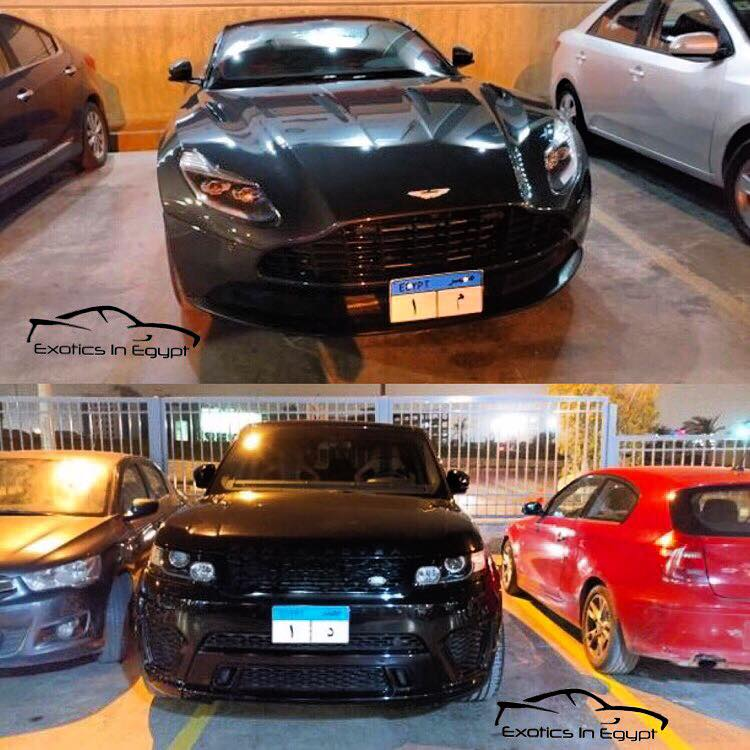carpl: (390, 272, 488, 324), (269, 605, 355, 646)
